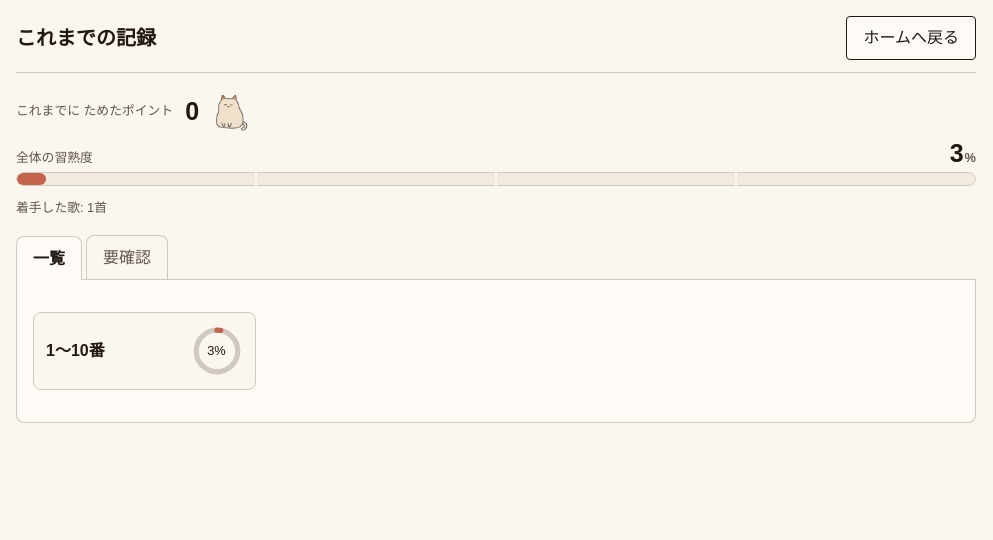
Test case: history: 要確認の面にも初句が出る
This screenshot has width=993, height=540.
Click the tab "要確認" at (127, 257), box x1=86 y1=235 x2=168 y2=279
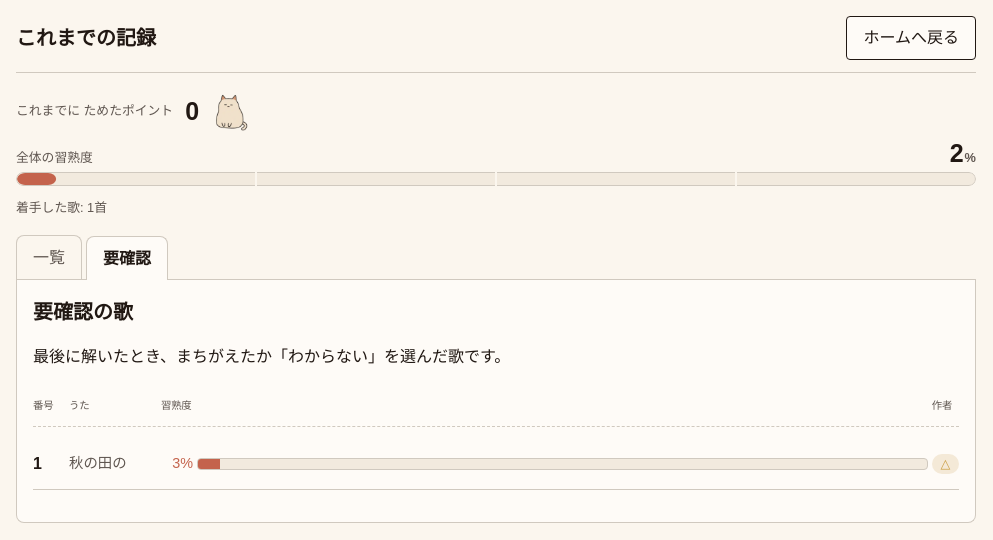
Check: the text with class "history-entry__ku" reads "秋の田の", box x1=69 y1=455 x2=127 y2=471
